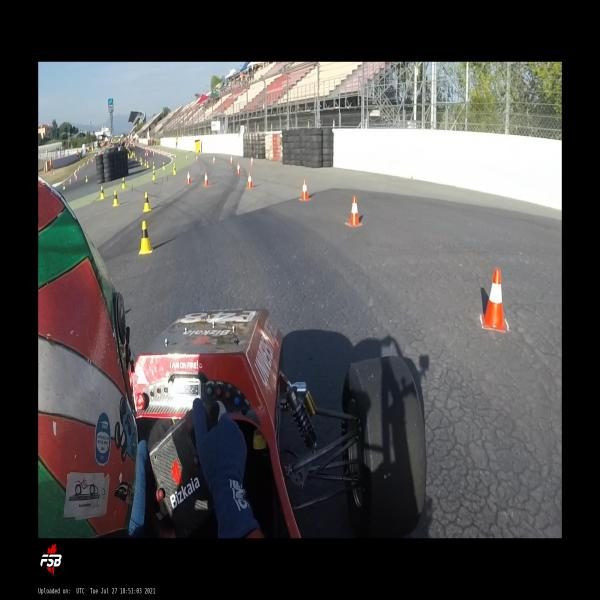orange_cone: (480, 268, 508, 332), (346, 196, 362, 227), (300, 179, 310, 200), (246, 172, 254, 189), (203, 172, 209, 185), (186, 171, 191, 184), (236, 163, 241, 174), (250, 156, 255, 166), (212, 156, 216, 164), (195, 156, 199, 163), (230, 156, 233, 163), (70, 178, 72, 185), (186, 154, 188, 161)
yellow_cone: (139, 220, 153, 254), (143, 192, 152, 212), (112, 190, 120, 206), (100, 186, 106, 200), (121, 177, 126, 189), (173, 165, 177, 175), (152, 170, 156, 180), (162, 161, 166, 170), (152, 161, 156, 169), (144, 160, 148, 167), (146, 161, 150, 168), (62, 182, 66, 189), (85, 175, 88, 182)
